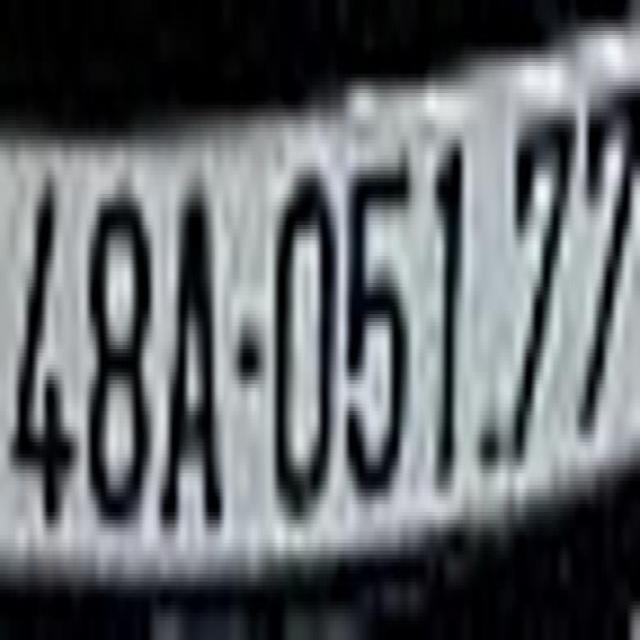0: (271, 153, 335, 522)
1: (429, 114, 465, 494)
4: (9, 163, 72, 535)
5: (344, 138, 412, 506)
7: (509, 91, 574, 468), (579, 72, 640, 444)
8: (86, 176, 150, 534)
A: (160, 175, 225, 535)
